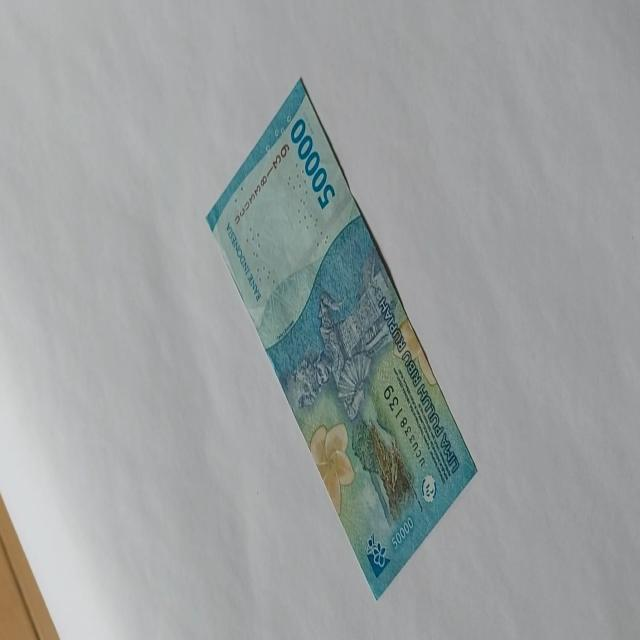lima puluh ribu rupiah: (205, 75, 479, 601), (290, 115, 336, 212)
